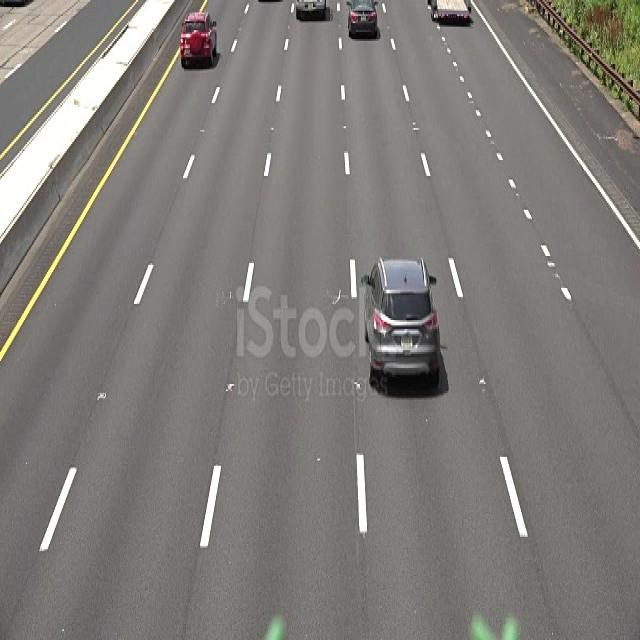Car: (359, 252, 443, 388), (180, 6, 221, 70), (346, 0, 380, 44), (293, 0, 332, 31)
